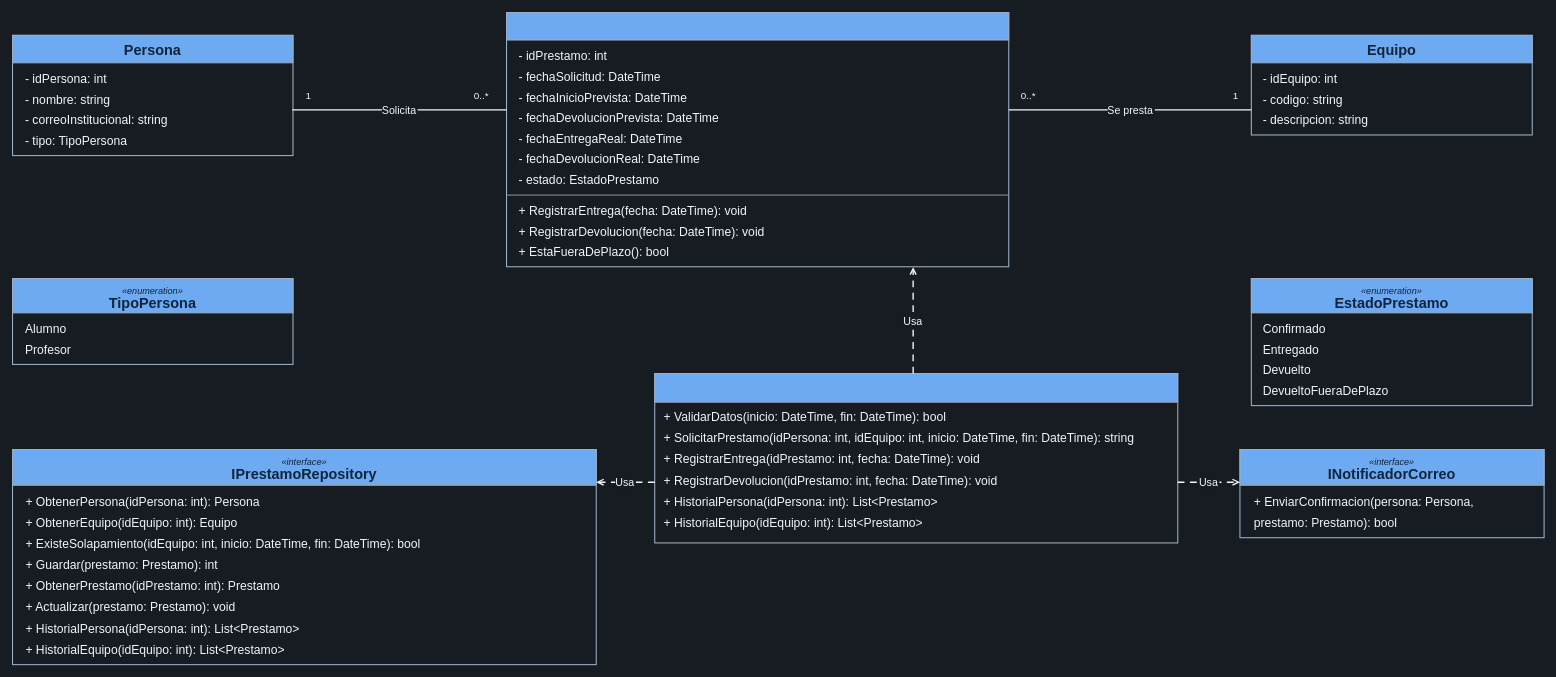
Some shapes in this 1556 by 677 pixel diagram are drawn without their labels. The shapes that lost their labels are listed below. From the top down, each one's centre as x and y in pixels, then its label:
point 757,26: Prestamo
point 916,387: PrestamoService
